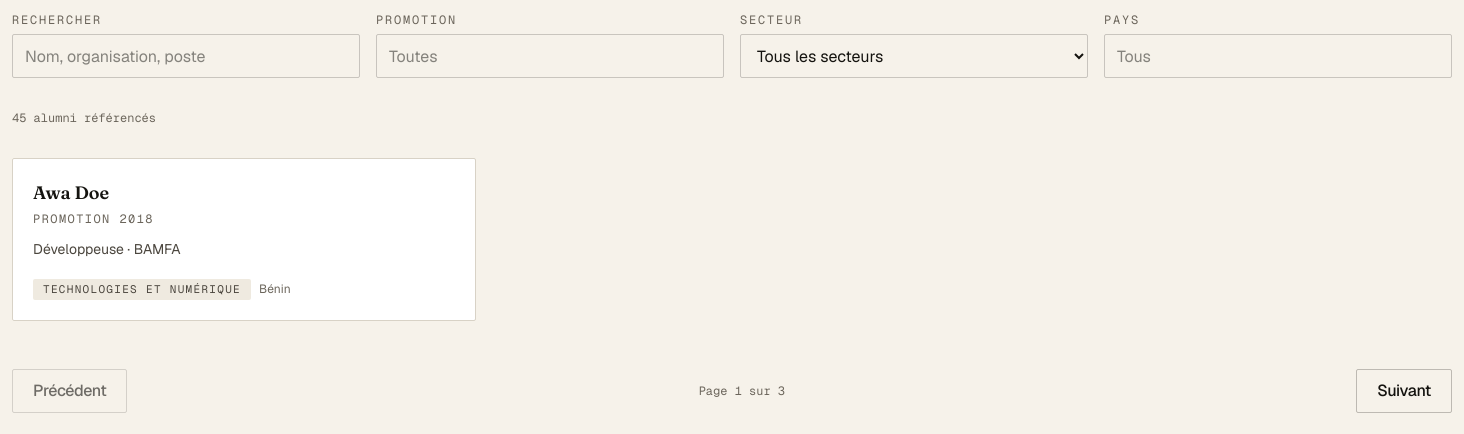
Test: Directory › remet la pagination à la page 1 lors d'un changement de filtre
Check: the text "Page 1 sur 3" is shown, box [699,382,785,398]
Click the button "Suivant" at (1404, 390), box [1356,368,1452,412]
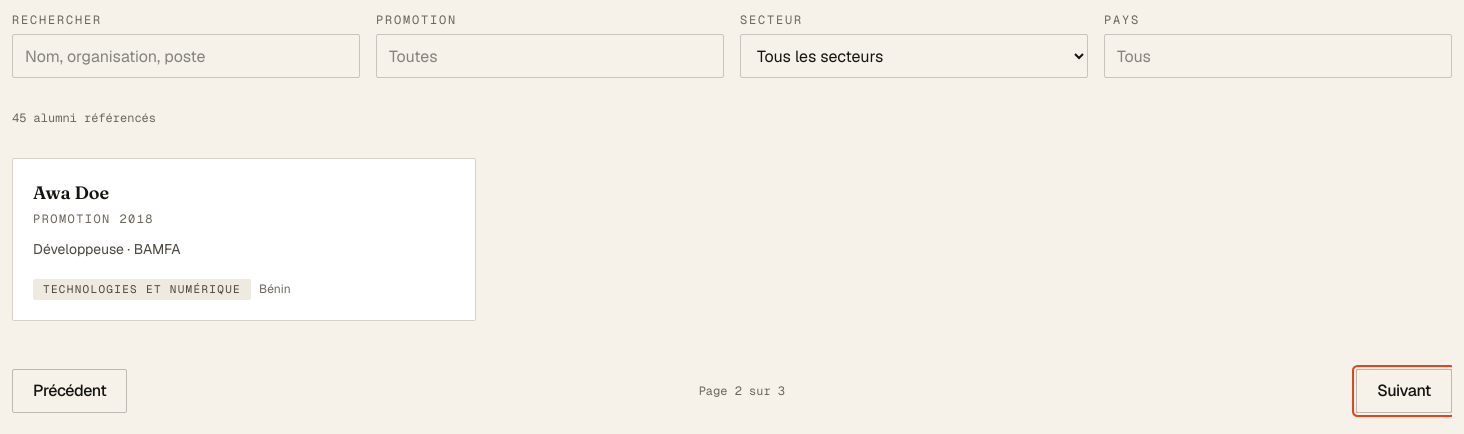
Check: the text "Page 2 sur 3" is shown, box [699,382,785,398]
Select "Santé" in the dropdown labelled "Secteur" at (914, 56), box [740,34,1088,78]
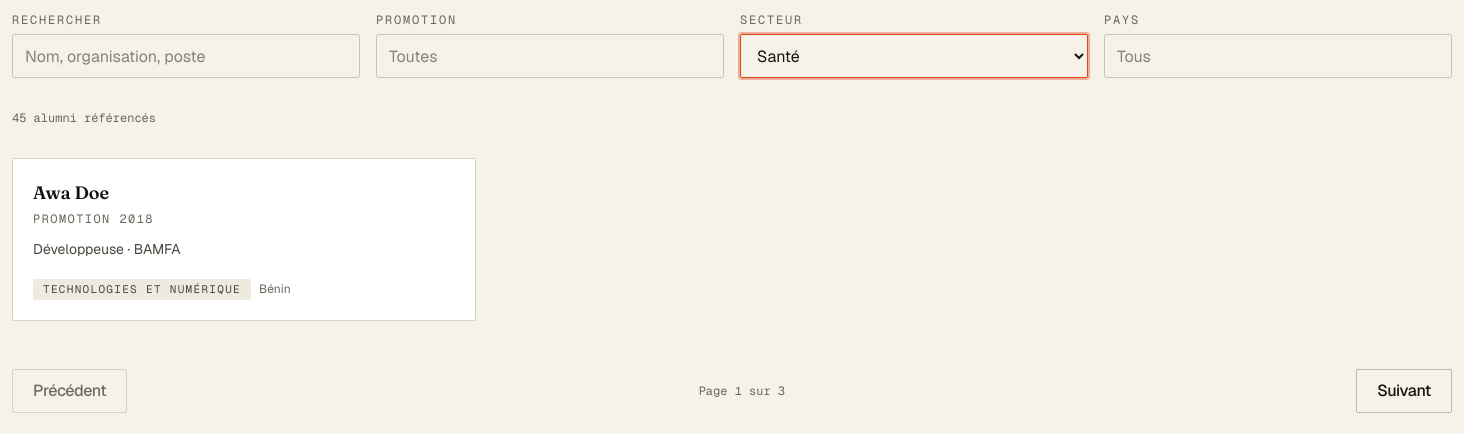
Check: the text "Page 1 sur 3" is shown, box [699,382,785,398]
